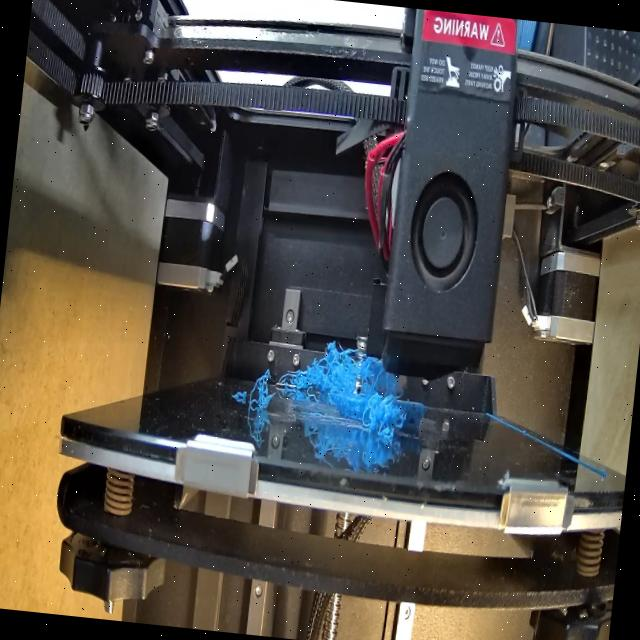spaghetti: (275, 348, 398, 405), (360, 386, 414, 444), (245, 368, 278, 416)
